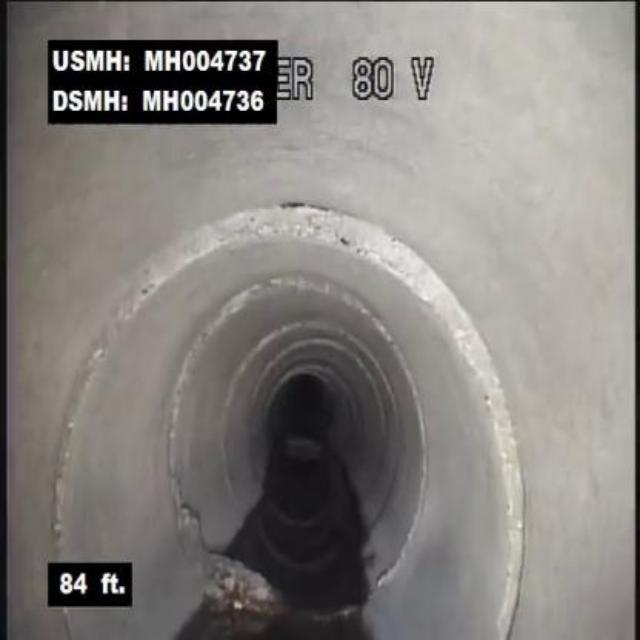Debris: (171, 503, 291, 626)
